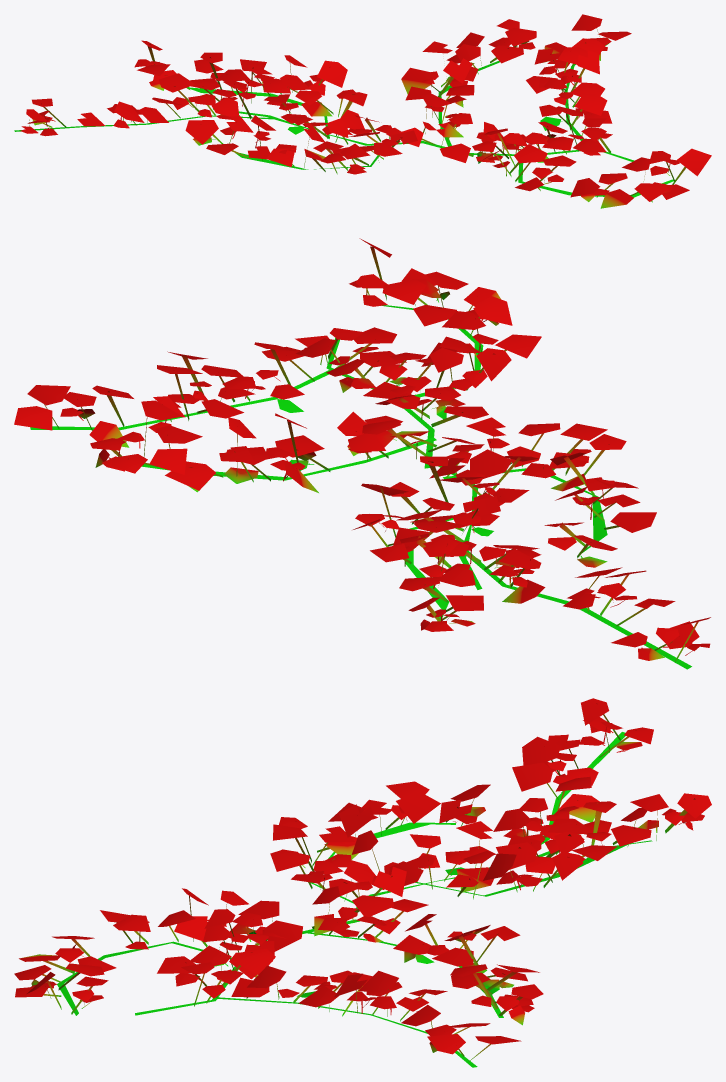
The model's file is Var1_LOD4.fbx.
3 renders of one model, top to bottom at view 1: azimuth 30°, elevation 25°; view 2: azimuth 150°, elevation 25°; view 3: azimuth 270°, elevation 25°, orthographic. The views are drawn at different scales.
Parts seen in each view (by area): view 1: _31cw_Var1_LOD4; view 2: _31cw_Var1_LOD4; view 3: _31cw_Var1_LOD4.
Part boxes in pixels (x1,y1,x2,y2): _31cw_Var1_LOD4: [14, 14, 711, 208]; _31cw_Var1_LOD4: [14, 238, 710, 669]; _31cw_Var1_LOD4: [14, 698, 711, 1067].
Bounding box in the file's own units: 175 × 13.61 × 150.
